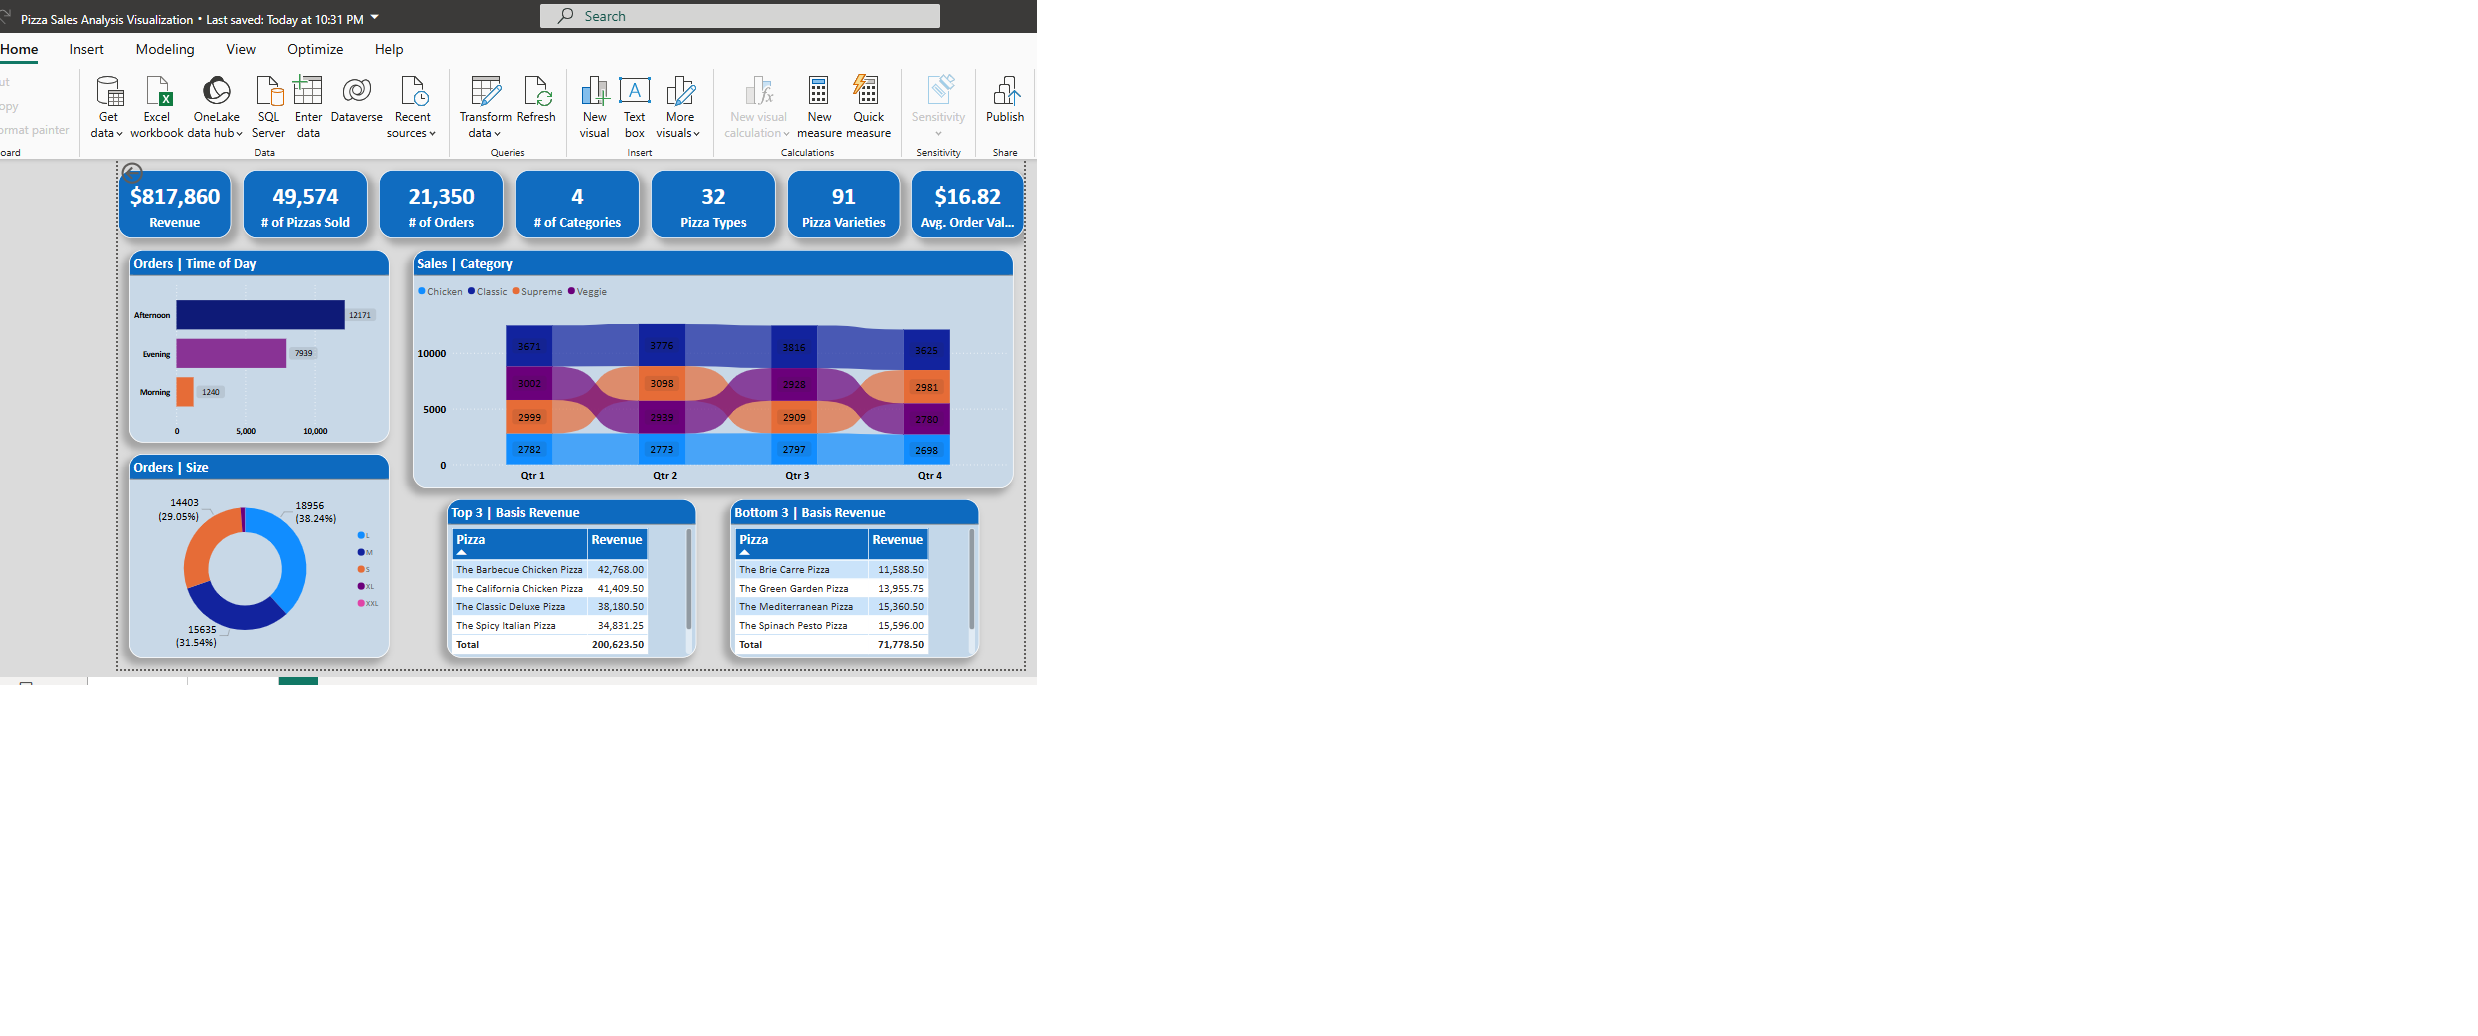

Layout of this report page (visuals, bound fields, positions):
{"tool":"powerbi","page":{"name":"Dashboard","canvas":[1280,720],"ordinal":0},"visuals":[{"type":"card","fields":{"Values":["Sum(pizza_sales.total_price)"]},"box":[0,16,160,96],"z":0},{"type":"card","fields":{"Values":["Sum(pizza_sales.quantity)"]},"box":[176,16,176,96],"z":1000},{"type":"card","fields":{"Values":["Count(pizza_sales.pizza_category)"]},"box":[560,16,176,96],"z":2000},{"type":"card","fields":{"Values":["Count(pizza_sales.pizza_name)"]},"box":[752,16,176,96],"z":3000},{"type":"card","fields":{"Values":["Count(pizza_sales.order_id)"]},"box":[368,16,176,96],"z":4000},{"type":"card","fields":{"Values":["Count(pizza_sales.pizza_name_id)"]},"box":[944,16,160,96],"z":5000},{"type":"card","fields":{"Values":["Avg(pizza_sales.total_price)"]},"box":[1120,16,160,96],"z":6000},{"type":"barChart","title":"Orders | Time of Day","fields":{"Category":["pizza_sales.time_of_day"],"Y":["Count(pizza_sales.order_id)"]},"box":[16,128,368,272],"z":7000},{"type":"ribbonChart","title":"Sales | Category","fields":{"Y":["Sum(pizza_sales.quantity)"],"Series":["pizza_sales.pizza_category"],"Category":["pizza_sales.order_date.Variation.Date Hierarchy.Year","pizza_sales.order_date.Variation.Date Hierarchy.Quarter","pizza_sales.order_date.Variation.Date Hierarchy.Month"]},"box":[416,128,848,336],"z":8000},{"type":"actionButton","box":[0,0,100,40],"z":9000},{"type":"donutChart","title":"Orders | Size","fields":{"Category":["pizza_sales.pizza_size"],"Y":["Sum(pizza_sales.quantity)"]},"box":[16,416,368,288],"z":10000},{"type":"tableEx","title":"Top 3 | Basis Revenue","fields":{"Values":["pizza_sales.pizza_name","Sum(pizza_sales.total_price)"]},"box":[464,480,352,224],"z":11000},{"type":"tableEx","title":"Bottom 3 | Basis Revenue","fields":{"Values":["pizza_sales.pizza_name","Sum(pizza_sales.total_price)"]},"box":[864,480,352,224],"z":12000}]}

Visuals, with their boxes on the page's 1280x720 design canvas (x1, y1, x2, y2). These are canvas units, not pixel positions in the 2478x1036 screenshot, which may show the page scaled, cropped or inside an application window:
card - Sum(pizza_sales.total_price): bbox=(0, 16, 160, 112)
card - Sum(pizza_sales.quantity): bbox=(176, 16, 352, 112)
card - Count(pizza_sales.pizza_category): bbox=(560, 16, 736, 112)
card - Count(pizza_sales.pizza_name): bbox=(752, 16, 928, 112)
card - Count(pizza_sales.order_id): bbox=(368, 16, 544, 112)
card - Count(pizza_sales.pizza_name_id): bbox=(944, 16, 1104, 112)
card - Avg(pizza_sales.total_price): bbox=(1120, 16, 1280, 112)
"Orders | Time of Day" barChart: bbox=(16, 128, 384, 400)
"Sales | Category" ribbonChart: bbox=(416, 128, 1264, 464)
actionButton: bbox=(0, 0, 100, 40)
"Orders | Size" donutChart: bbox=(16, 416, 384, 704)
"Top 3 | Basis Revenue" tableEx: bbox=(464, 480, 816, 704)
"Bottom 3 | Basis Revenue" tableEx: bbox=(864, 480, 1216, 704)
